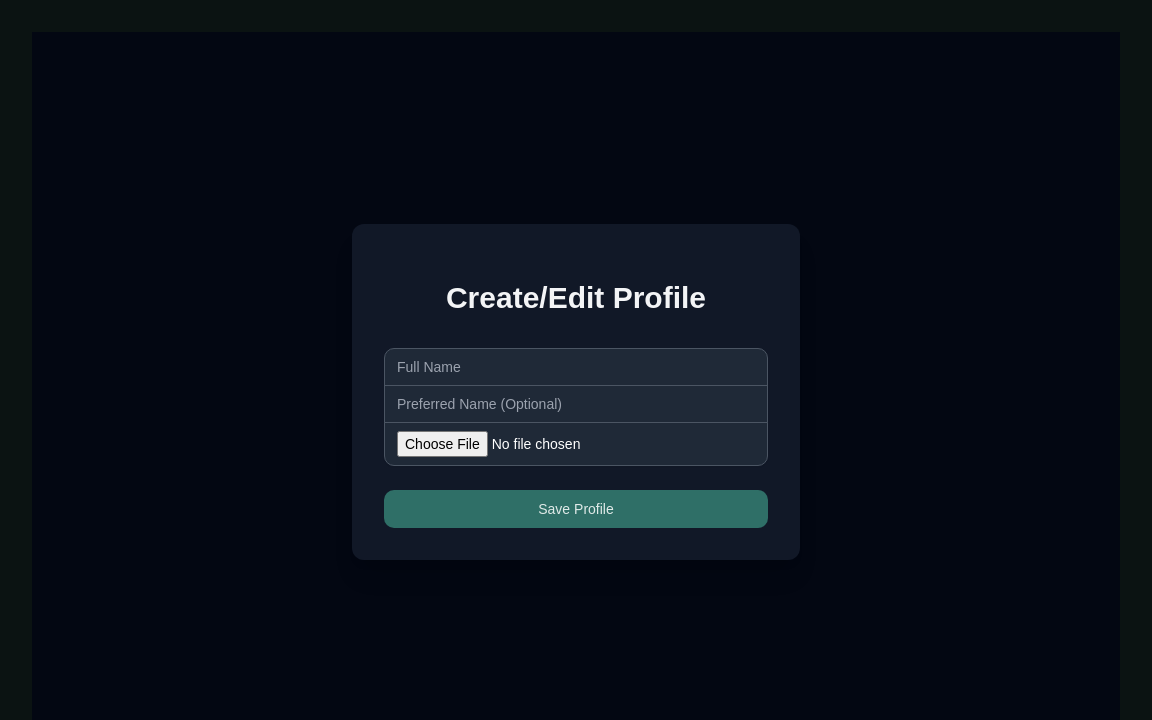
Test: EditProfile › displays validation error for empty full name on submit
// Directly trigger submit to surface validation
Click the button "Save Profile" at (576, 509), box [384, 490, 768, 528]
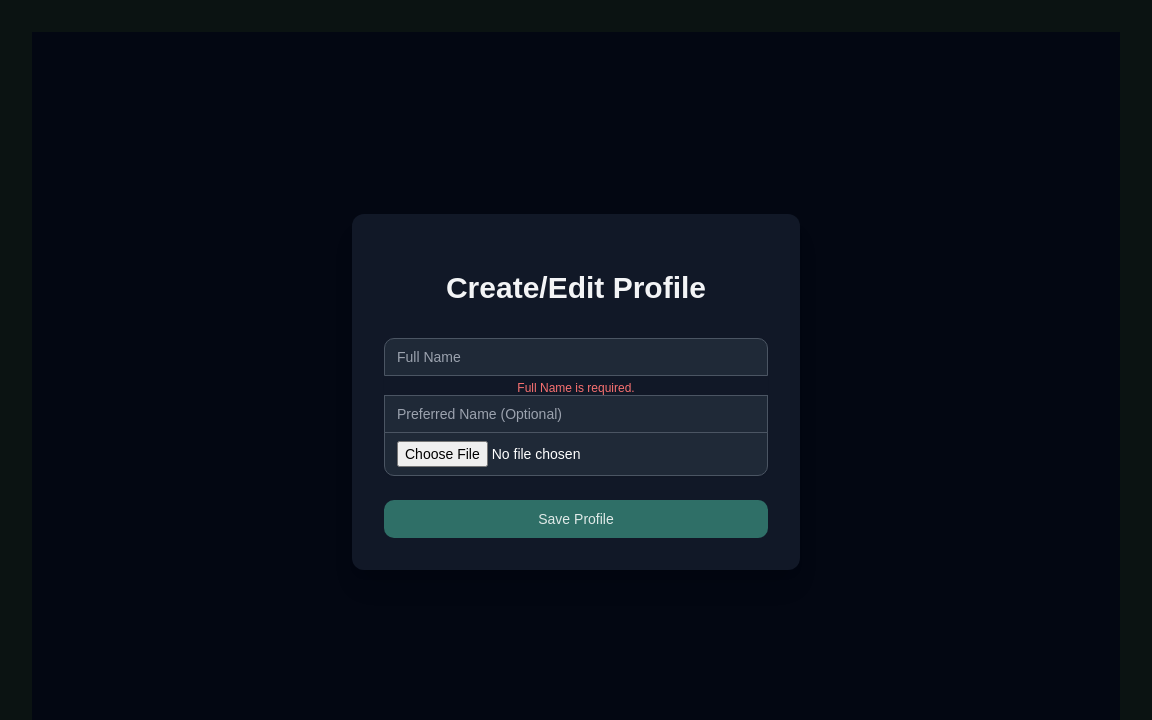
Check: the text "Full Name is required." is shown, box [517, 381, 635, 395]
